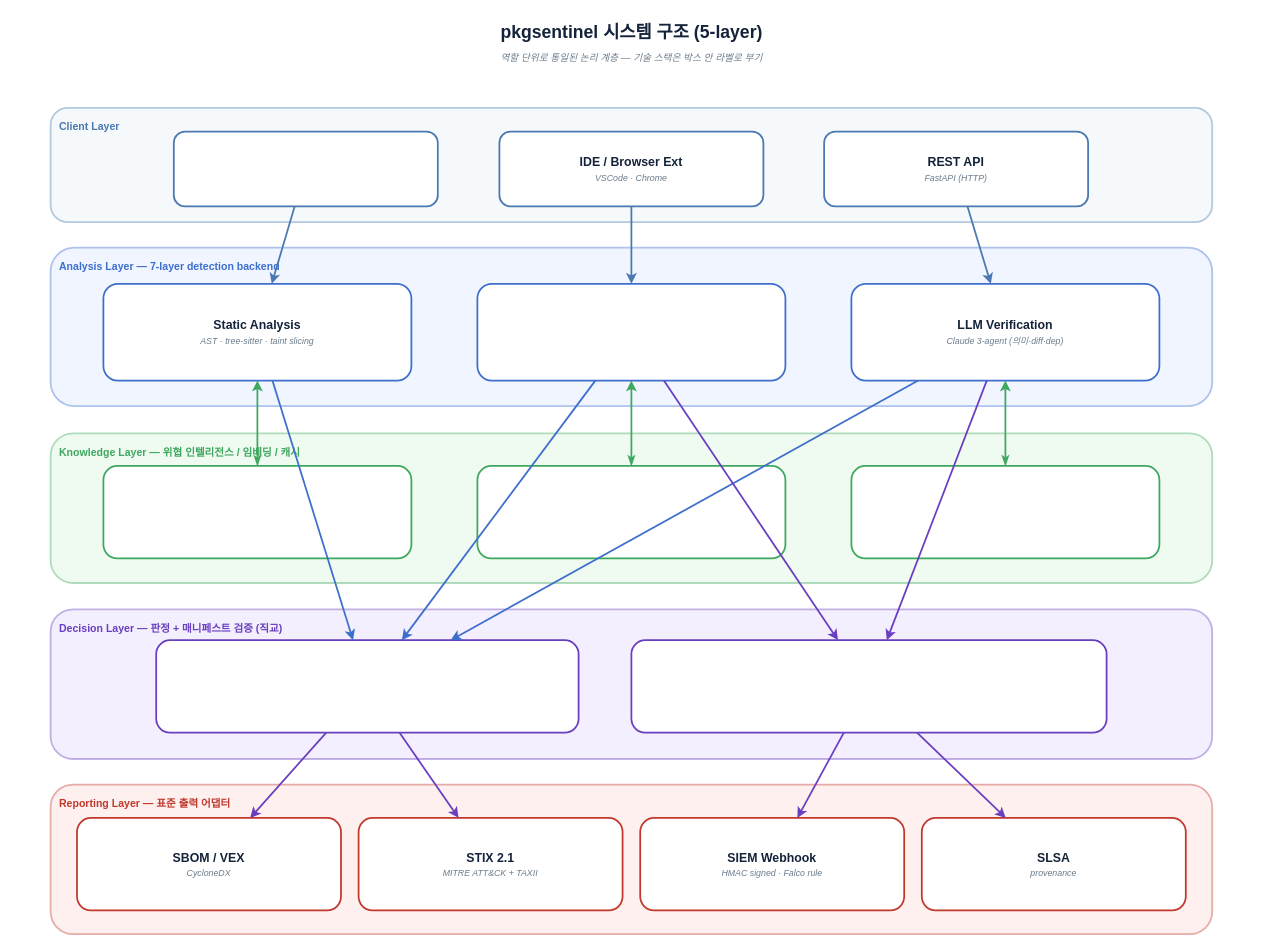
The diagram is 1262 pixels wide and 950 high, and some of its shapes have lost their labels. Here are the shapes that lost their labels. From the top down, the centre of each, then its label:
point (305, 168): CLI pkgsentinel command
point (631, 331): Behavioral Analysis MITRE TTP 임베딩 + 47-indicator
point (257, 512): Threat Intel DB OSV + OSSF malicious-packages
point (631, 512): Embeddings MITRE ATT&CK 568 TTP
point (1005, 512): Encrypted Cache SQLCipher (AES-256)
point (367, 686): Rule Engine verdict_rules (3-AND, threshold)
point (868, 686): Agentic Manifest Diff ★ declared (pyproject [tool.agentic]) vs detected
